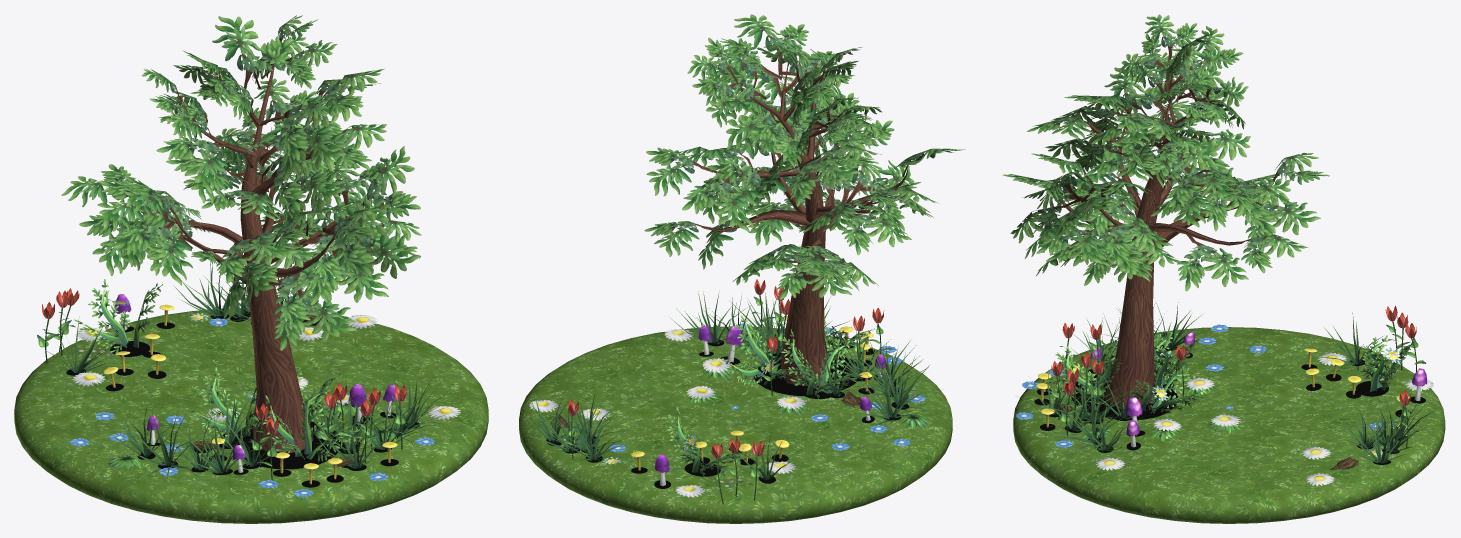
Rendered from environment.fbx.
3 views of the same model, side by side, from view 1: azimuth 30°, elevation 25°; view 2: azimuth 150°, elevation 25°; view 3: azimuth 270°, elevation 25° (orthographic). The views are drawn at different scales.
Visible parts, largest first — view 1: mesh_ground_mat_ground1_0, mesh_tree_mat_plants_0, mesh_tree_mat_tilable_bark_0, mesh_bush3_mat_plants_0, mesh_bush1_mat_plants_0, mesh_bush_mat_plants_0, mesh_grass8_mat_plants_0, mesh_grass18_mat_plants_0, mesh_grass16_mat_plants_0, mesh_grass10_mat_plants_0, mesh_grass11_mat_plants_0, mesh_grass7_mat_plants_0 (+6 smaller); view 2: mesh_ground_mat_ground1_0, mesh_tree_mat_plants_0, mesh_tree_mat_tilable_bark_0, mesh_bush_mat_plants_0, mesh_bush3_mat_plants_0, mesh_bush2_mat_plants_0, mesh_grass7_mat_plants_0, mesh_grass8_mat_plants_0, mesh_grass6_mat_plants_0, mesh_grass11_mat_plants_0, mesh_grass17_mat_plants_0, mesh_grass1_mat_plants_0 (+7 smaller); view 3: mesh_ground_mat_ground1_0, mesh_tree_mat_plants_0, mesh_tree_mat_tilable_bark_0, mesh_bush3_mat_plants_0, mesh_bush2_mat_plants_0, mesh_bush1_mat_plants_0, mesh_bush_mat_plants_0, mesh_grass13_mat_plants_0, mesh_grass2_mat_plants_0, mesh_grass10_mat_plants_0, mesh_grass1_mat_plants_0, mesh_grass14_mat_plants_0 (+2 smaller).
Boxes of the visible parts, box(x1,y1,x2,y2) form: mesh_ground_mat_ground1_0: box(14, 308, 488, 523); mesh_tree_mat_plants_0: box(61, 15, 421, 469); mesh_tree_mat_tilable_bark_0: box(140, 66, 341, 452); mesh_bush3_mat_plants_0: box(74, 279, 162, 356); mesh_bush1_mat_plants_0: box(263, 385, 362, 462); mesh_bush_mat_plants_0: box(185, 367, 268, 444); mesh_grass8_mat_plants_0: box(127, 410, 209, 483); mesh_grass18_mat_plants_0: box(173, 415, 262, 474); mesh_grass16_mat_plants_0: box(318, 409, 397, 470); mesh_grass10_mat_plants_0: box(47, 316, 123, 389); mesh_grass11_mat_plants_0: box(173, 261, 247, 319); mesh_grass7_mat_plants_0: box(108, 400, 196, 459); mesh_ground_mat_ground1_0: box(519, 326, 952, 523); mesh_tree_mat_plants_0: box(644, 14, 964, 395); mesh_tree_mat_tilable_bark_0: box(706, 67, 907, 385); mesh_bush_mat_plants_0: box(781, 329, 861, 398); mesh_bush3_mat_plants_0: box(667, 407, 747, 476); mesh_bush2_mat_plants_0: box(721, 315, 793, 387); mesh_grass7_mat_plants_0: box(846, 367, 924, 424); mesh_grass8_mat_plants_0: box(876, 350, 942, 414); mesh_grass6_mat_plants_0: box(847, 344, 928, 396); mesh_grass11_mat_plants_0: box(547, 412, 631, 462); mesh_grass17_mat_plants_0: box(826, 330, 897, 381); mesh_grass1_mat_plants_0: box(668, 291, 747, 346); mesh_ground_mat_ground1_0: box(1013, 327, 1445, 523); mesh_tree_mat_plants_0: box(1002, 14, 1329, 420); mesh_tree_mat_tilable_bark_0: box(1060, 47, 1239, 409); mesh_bush3_mat_plants_0: box(1356, 335, 1414, 396); mesh_bush2_mat_plants_0: box(1130, 368, 1203, 413); mesh_bush1_mat_plants_0: box(1045, 338, 1122, 400); mesh_bush_mat_plants_0: box(1107, 332, 1199, 393); mesh_grass13_mat_plants_0: box(1340, 413, 1414, 464); mesh_grass2_mat_plants_0: box(1042, 392, 1123, 455); mesh_grass10_mat_plants_0: box(1305, 312, 1386, 371); mesh_grass1_mat_plants_0: box(1057, 402, 1141, 452); mesh_grass14_mat_plants_0: box(1355, 407, 1432, 453).
Size of what is drawn, in the model's own units: 428 by 425 by 447.
